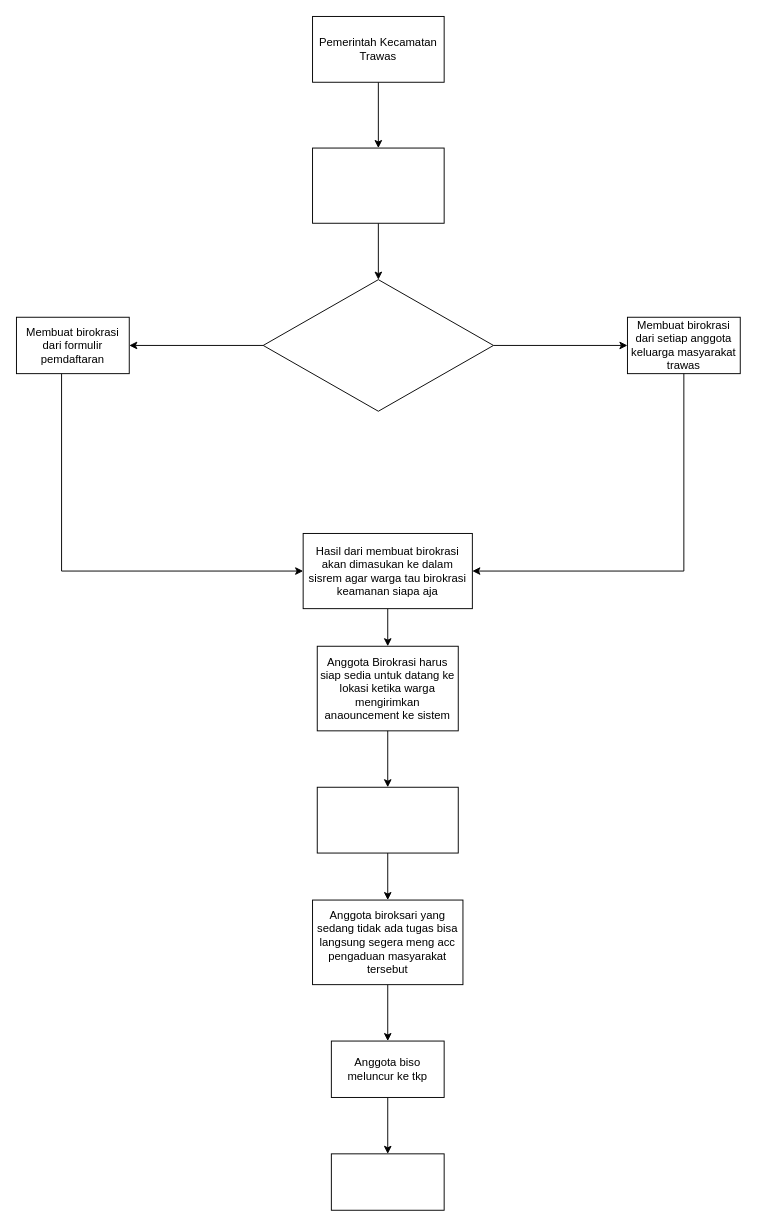
This 757x1227 diagram has some shape labels left out. Here are the shapes that lost their labels. From the top down, the centre of each, then its label:
At pixel 378 185: "Membuat sistem keamanan pengaduan masyarakat".
At pixel 378 345: "Membuat birokrasi keamanan untuk pengaduan masyarakat".
At pixel 387 819: "Ketiika warga ada yang melakukan pengaduan".
At pixel 387 1181: "kasus diamankan dan diserahkan ke pihak kecamatan dauhulu".
